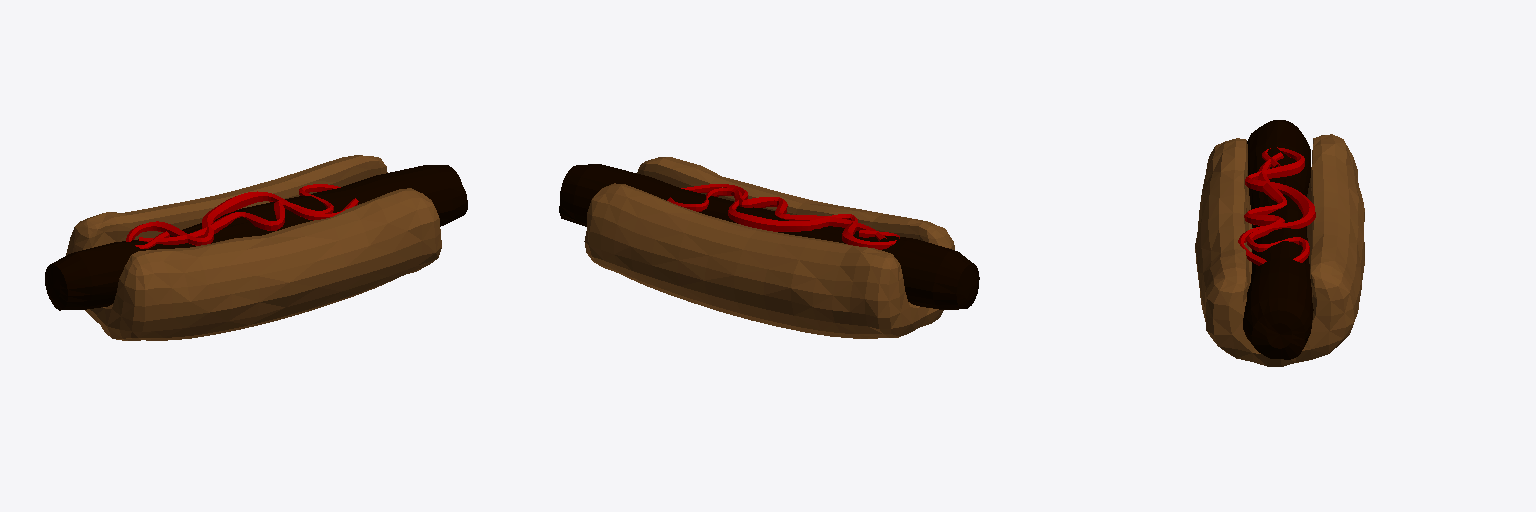
Rendered from objHotdog.obj.
3 renders of one model, left to right at view 1: azimuth 30°, elevation 25°; view 2: azimuth 150°, elevation 25°; view 3: azimuth 270°, elevation 25°, orthographic.
Visible parts, largest first — view 1: hotdog; view 2: hotdog; view 3: hotdog.
Part boxes in pixels (left/top/right/bottom): hotdog: left=45, top=155, right=467, bottom=340; hotdog: left=559, top=157, right=979, bottom=338; hotdog: left=1195, top=120, right=1364, bottom=366.
Size of the model in its own units: 6.01 by 1.55 by 2.17.